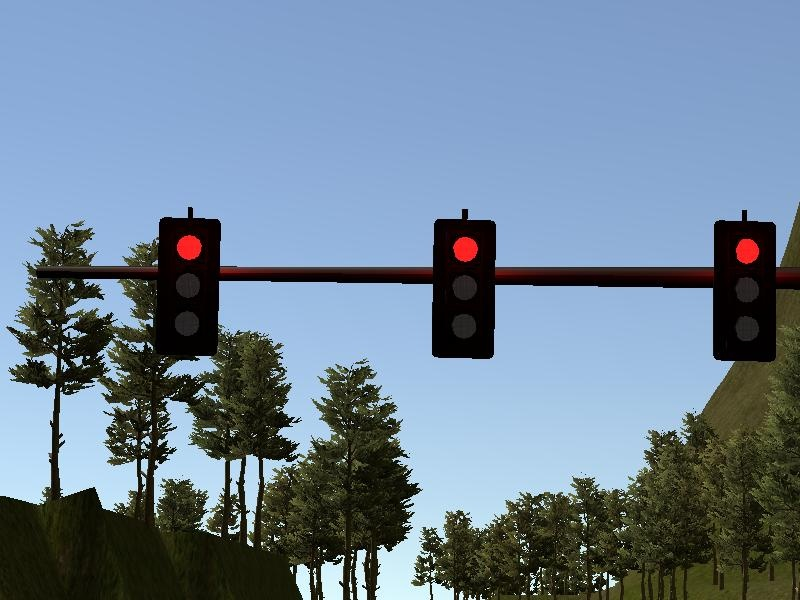Red: (710, 218, 780, 365), (429, 215, 498, 362), (156, 214, 222, 360)
